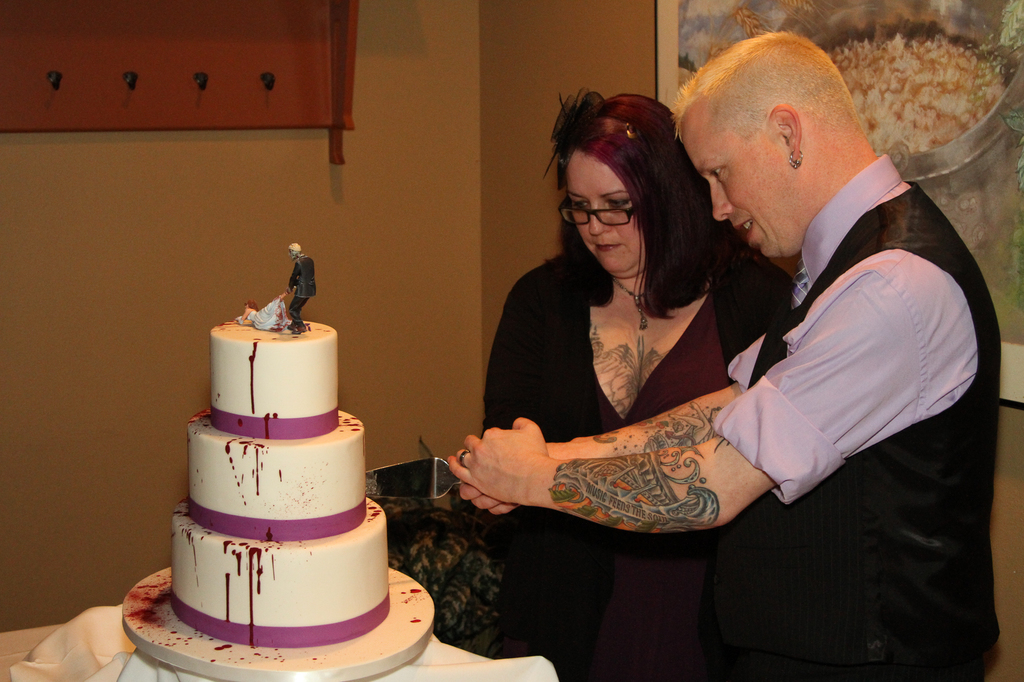cake: (173, 241, 394, 649)
